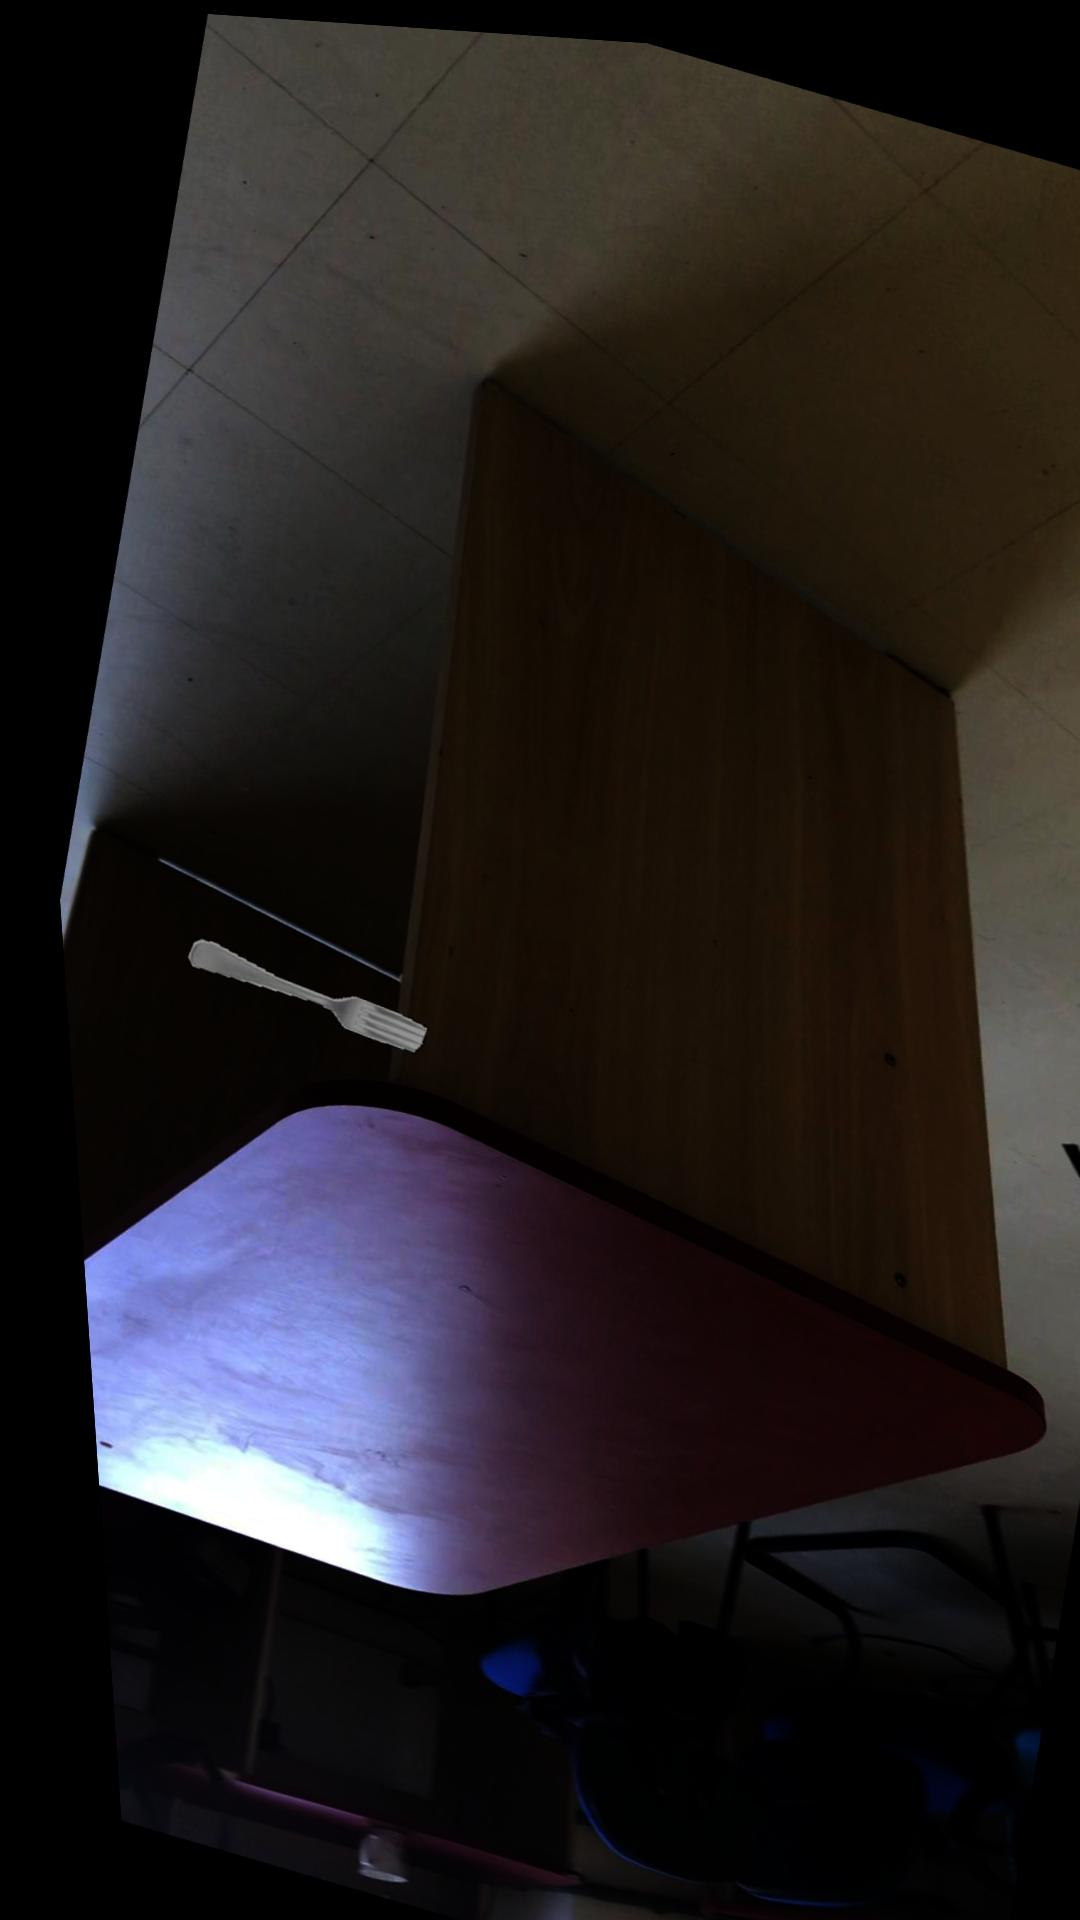fork: (174, 938, 415, 1051)
